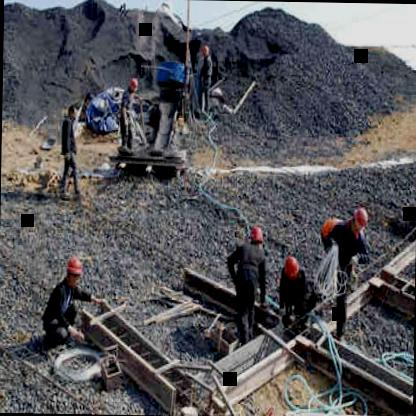head: (63, 104, 80, 126)
helmet: (280, 254, 302, 282), (64, 255, 84, 285), (350, 204, 370, 233), (245, 221, 266, 245), (127, 73, 140, 94)
